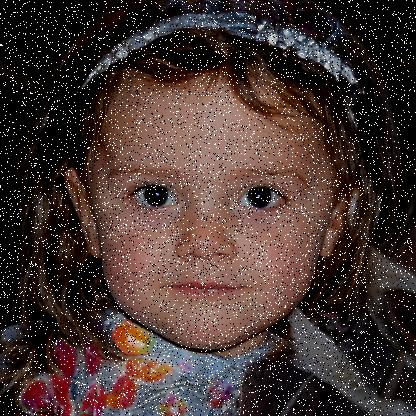eyeee: (117, 180, 185, 216), (229, 182, 296, 215)
mouthhz: (157, 277, 252, 302)
nosebb: (173, 202, 240, 264)
